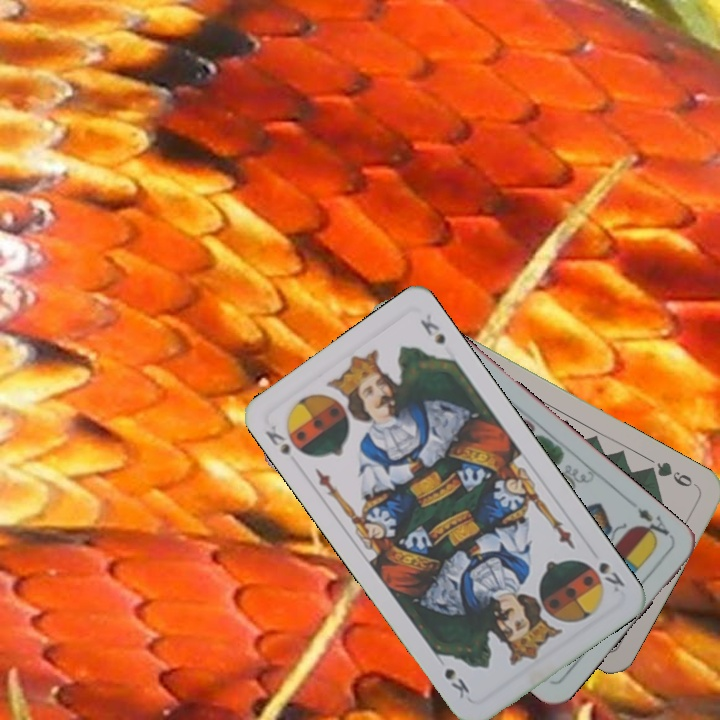EA: (632, 501, 674, 544)
G9: (642, 458, 700, 490)
SK: (261, 417, 294, 460), (594, 558, 628, 595)
